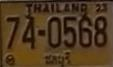0: (47, 16, 61, 47)
4: (21, 16, 35, 48)
5: (63, 16, 76, 47)
6: (78, 15, 91, 47)
7: (6, 16, 19, 48)
8: (94, 16, 106, 46)
CBI: (43, 51, 73, 67)
